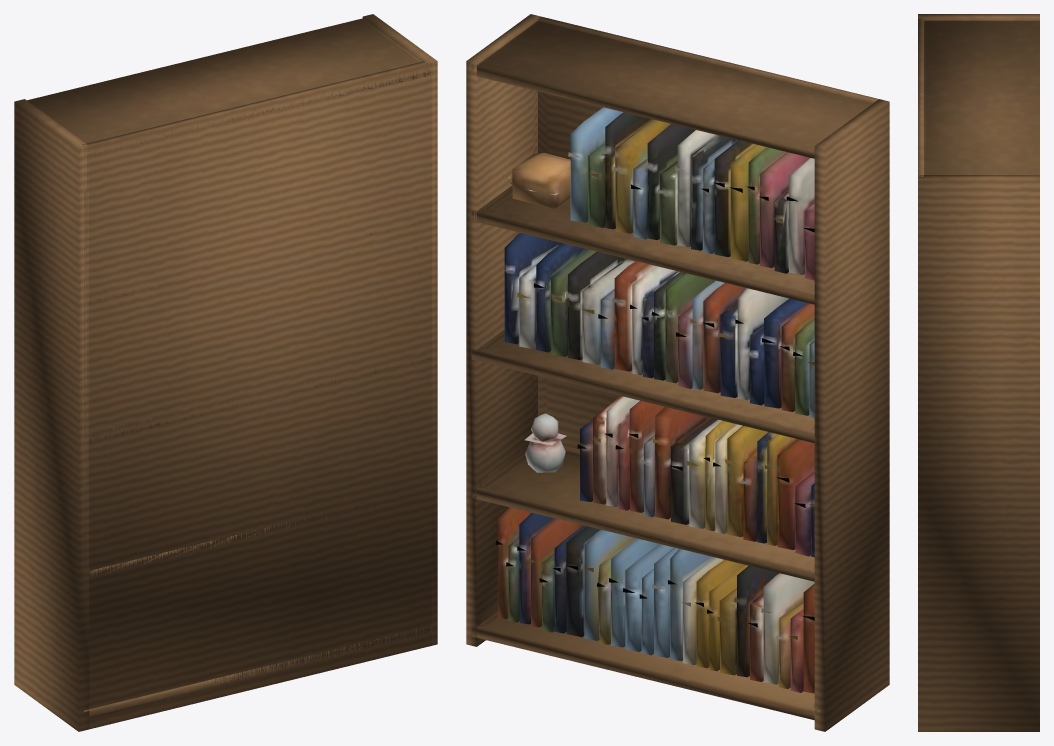
Rendered from bookshelf_b.glb.
The picture shows the model from 3 angles, left to right: view 1: azimuth 30°, elevation 25°; view 2: azimuth 150°, elevation 25°; view 3: azimuth 270°, elevation 25°; orthographic projection. The views are drawn at different scales.
Parts seen in each view (by area): view 1: prop_bookshelf_b_wood; view 2: prop_bookshelf_b_wood, prop_bookshelf_b_felt; view 3: prop_bookshelf_b_wood.
Part boxes in pixels (x1=…): prop_bookshelf_b_wood: x1=14, y1=14, x2=437, y2=731; prop_bookshelf_b_wood: x1=466, y1=14, x2=889, y2=731; prop_bookshelf_b_felt: x1=495, y1=107, x2=814, y2=693; prop_bookshelf_b_wood: x1=918, y1=14, x2=1039, y2=731.
Bounding box in the file's own units: 2.06 × 3.2 × 0.64.
Materials: 2 (2 with a texture image).
